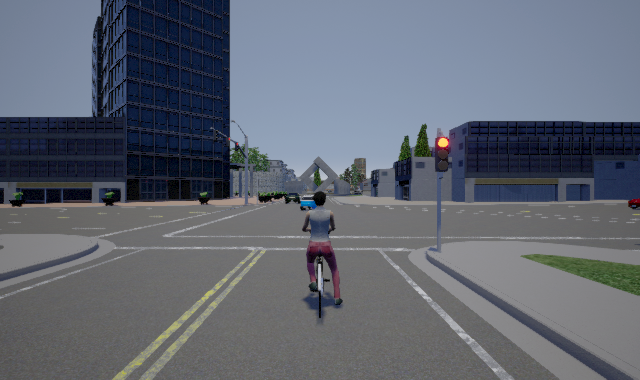bike: (301, 190, 343, 318)
traffic_light: (435, 131, 449, 179), (214, 130, 219, 141), (226, 137, 231, 147), (235, 142, 239, 151)
vehicle: (285, 192, 317, 211)
